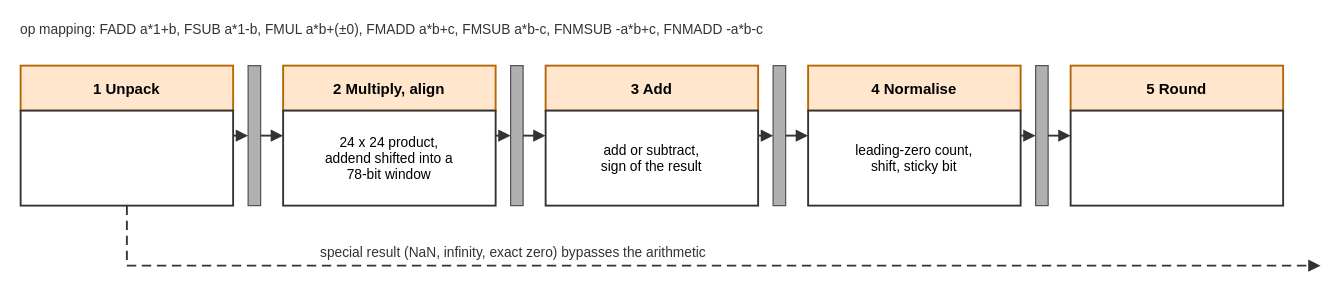
The diagram is 1339 pixels wide and 291 high, and some of its shapes have lost their labels. Here are the shapes that lost their labels. From the top down, the centre of each, then its label:
At pixel 126 157: "normalise subnormals, special cases (NaN, inf, zero, invalid)".
At pixel 1176 157: "fpu_round: mode, subnormal, overflow, flags".
